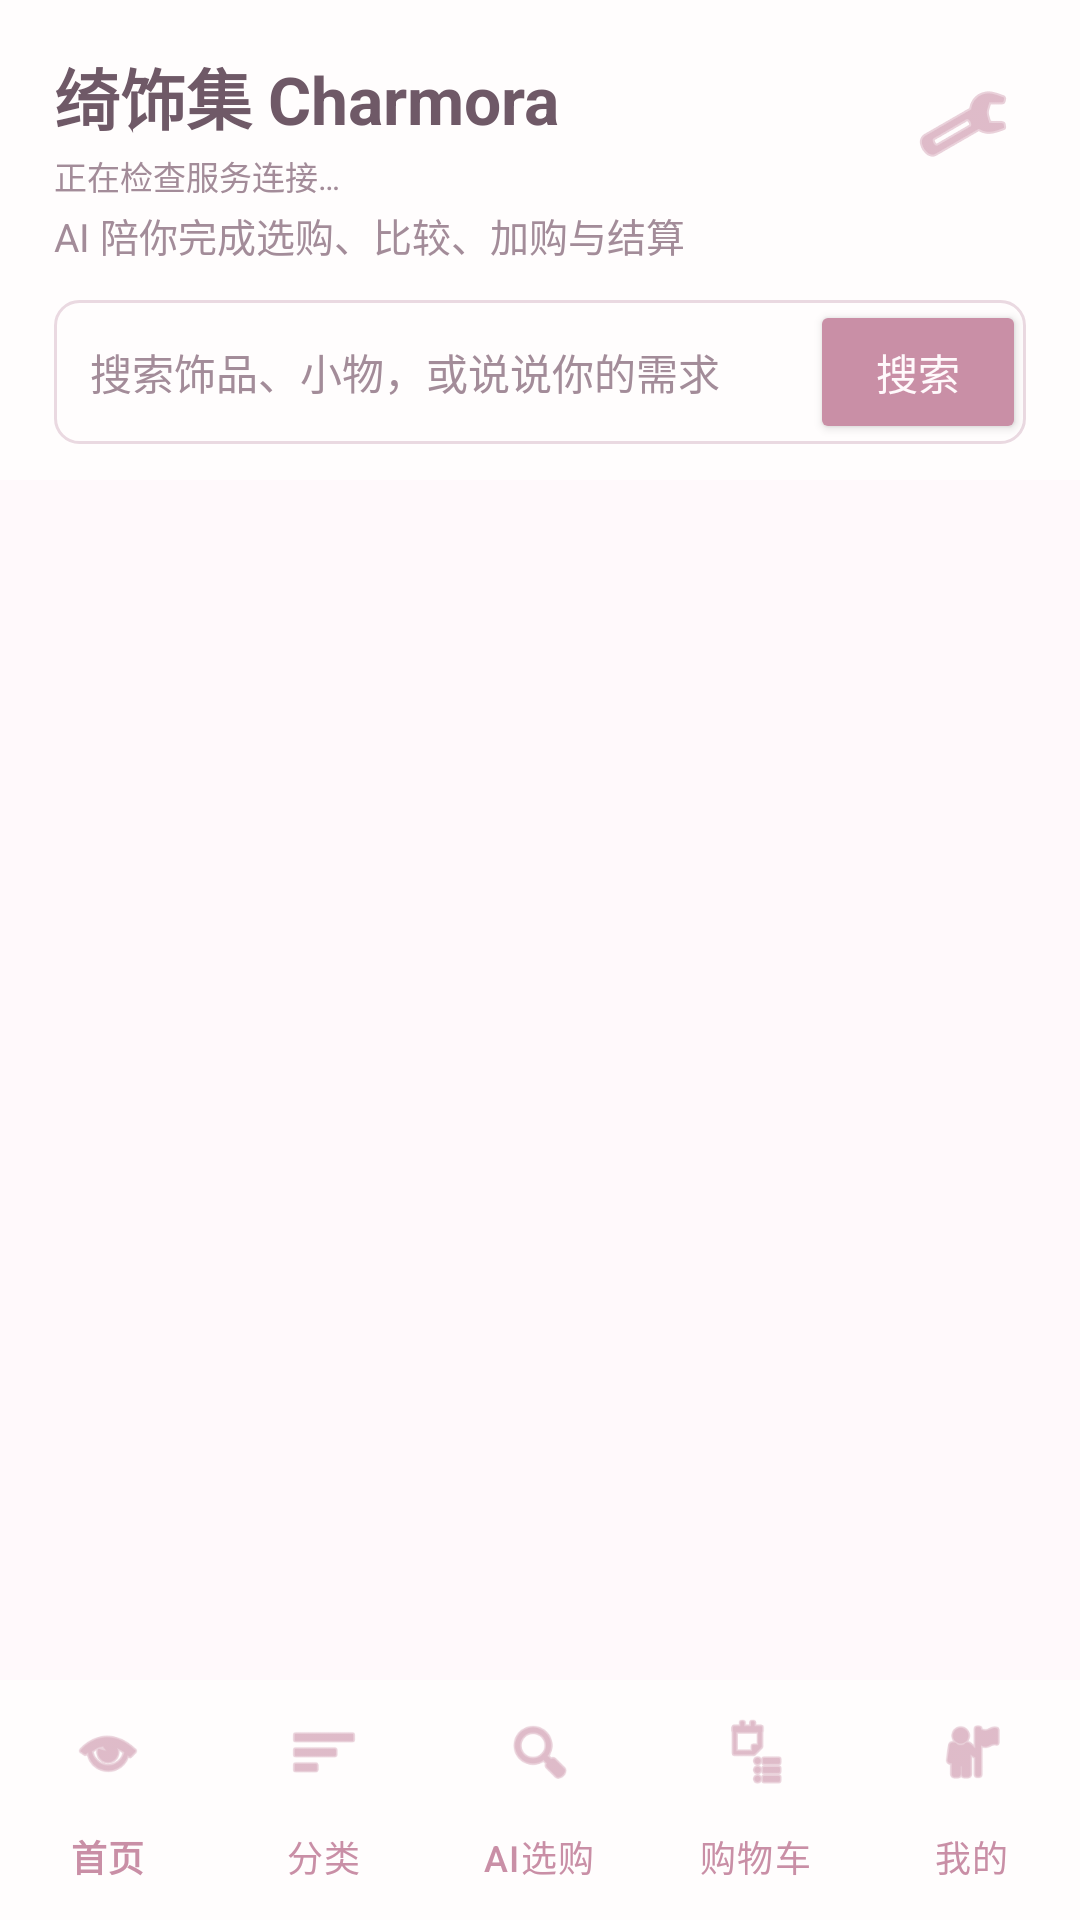

Icon bounding boxes for this 1080px x 1920px phone screenshot, format (x1, y1, x2, y2):
服务设置: (920, 91, 1006, 157)
